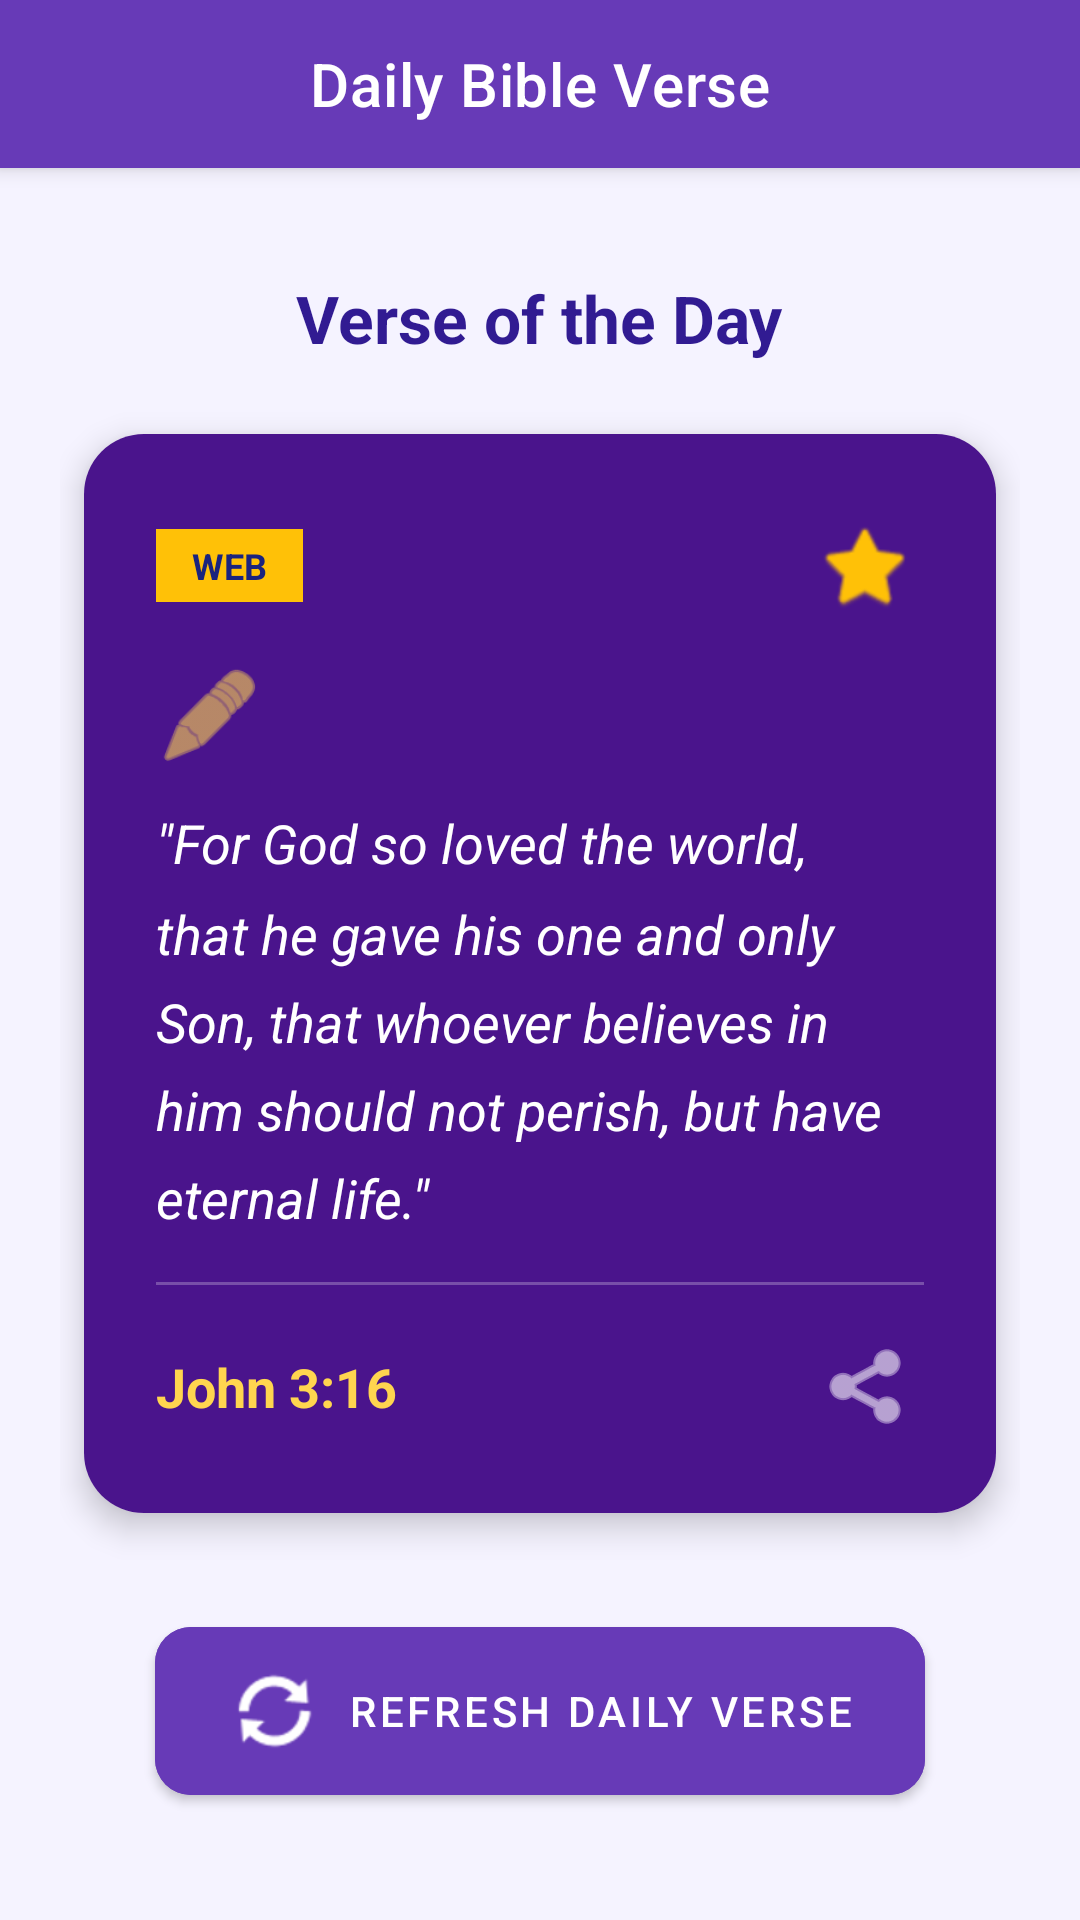

Named icons in this screenshot (1080px×1920px) and their centers, point (x, y):
Bookmark Verse: point (865, 566)
